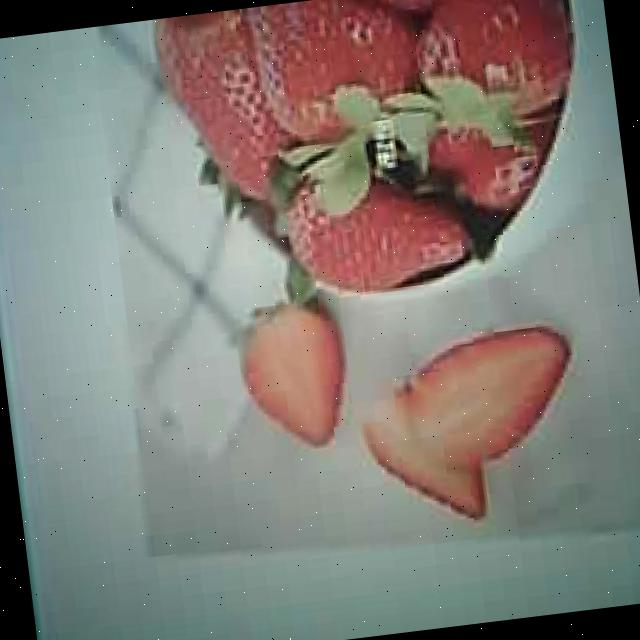strawberry: (273, 168, 471, 302), (239, 0, 422, 143), (409, 0, 577, 125)
